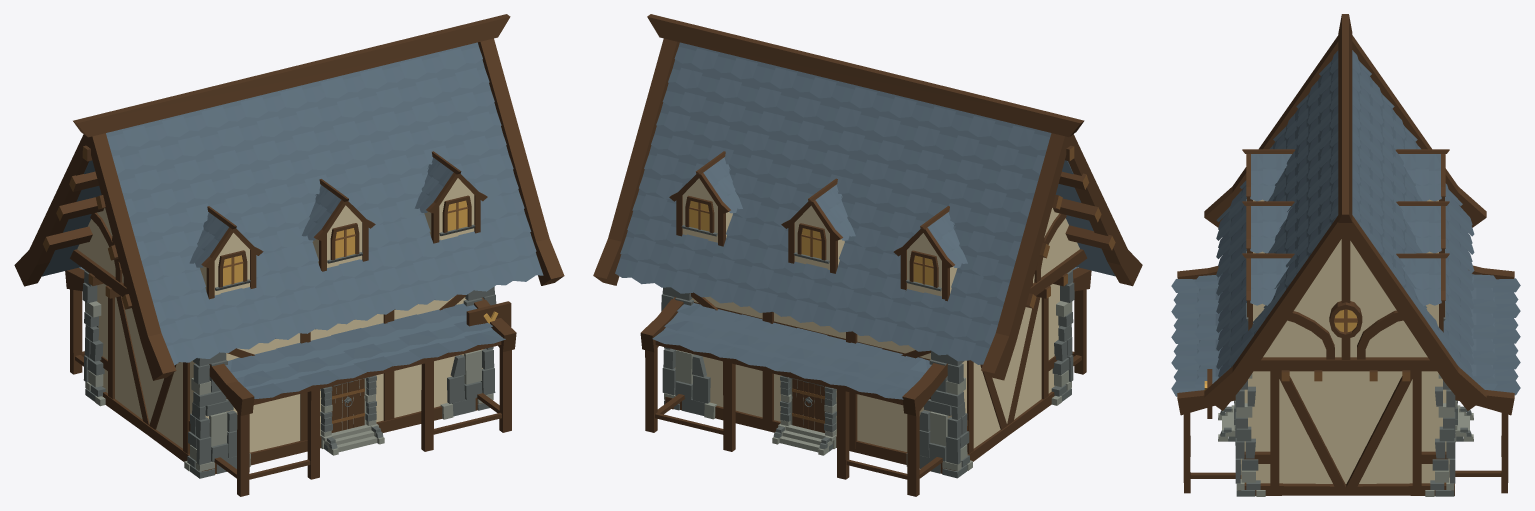
Rendered from guild_hall.glb.
The picture shows the model from 3 angles, left to right: view 1: azimuth 30°, elevation 25°; view 2: azimuth 150°, elevation 25°; view 3: azimuth 270°, elevation 25°; orthographic projection. The views are drawn at different scales.
Visible parts, largest first — view 1: guild_hall; view 2: guild_hall; view 3: guild_hall.
Boxes of the visible parts, x1,y1,x2,y2 form: guild_hall: [14, 14, 564, 496]; guild_hall: [593, 14, 1142, 496]; guild_hall: [1171, 14, 1520, 496].
Bounding box in the file's own units: 15 × 11 × 11.
